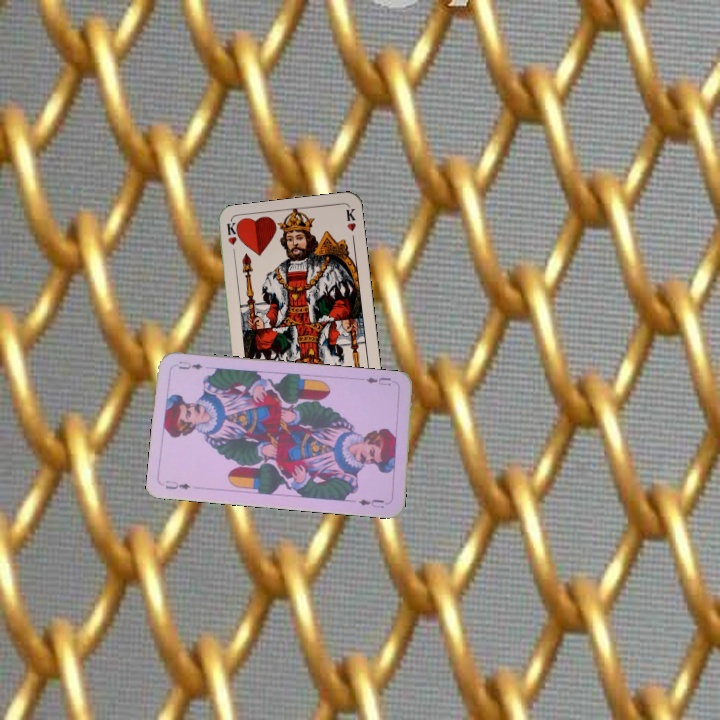EU: (362, 373, 393, 388), (162, 477, 193, 492)
HK: (223, 220, 239, 260)
